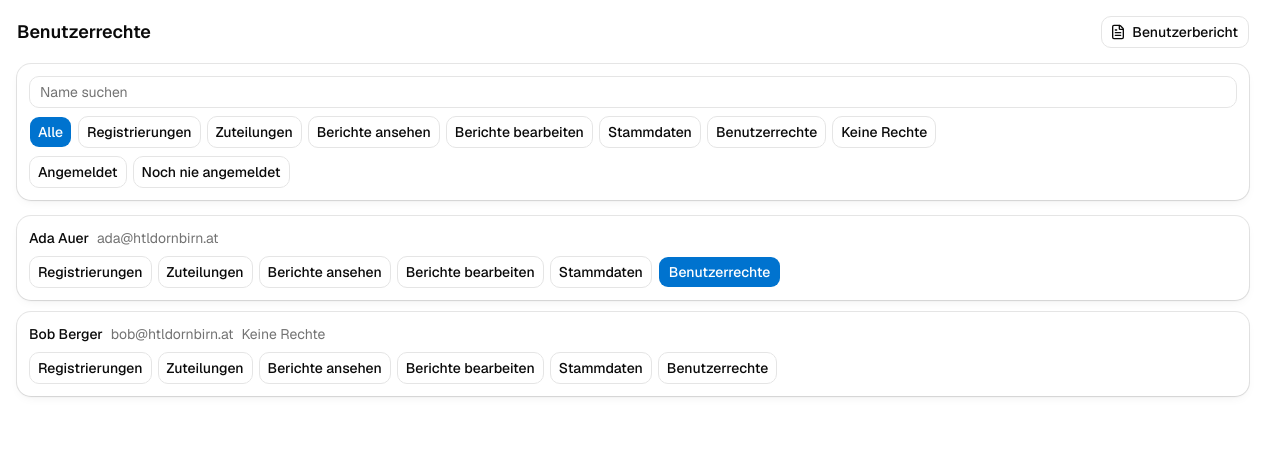
Test: UserPermissionsView › reports a refusal without pretending the press landed
Click the button "Zuteilungen" below "Bob Berger": (205, 368) [165,358,246,378]
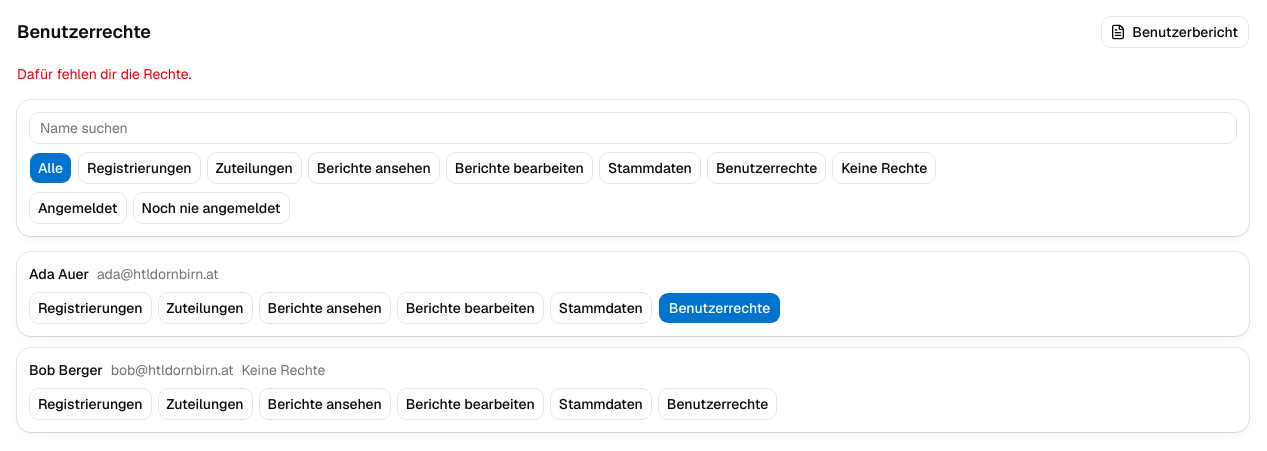
Now the message reads "Dafür fehlen dir die Rechte.", box [17,65,191,83]
